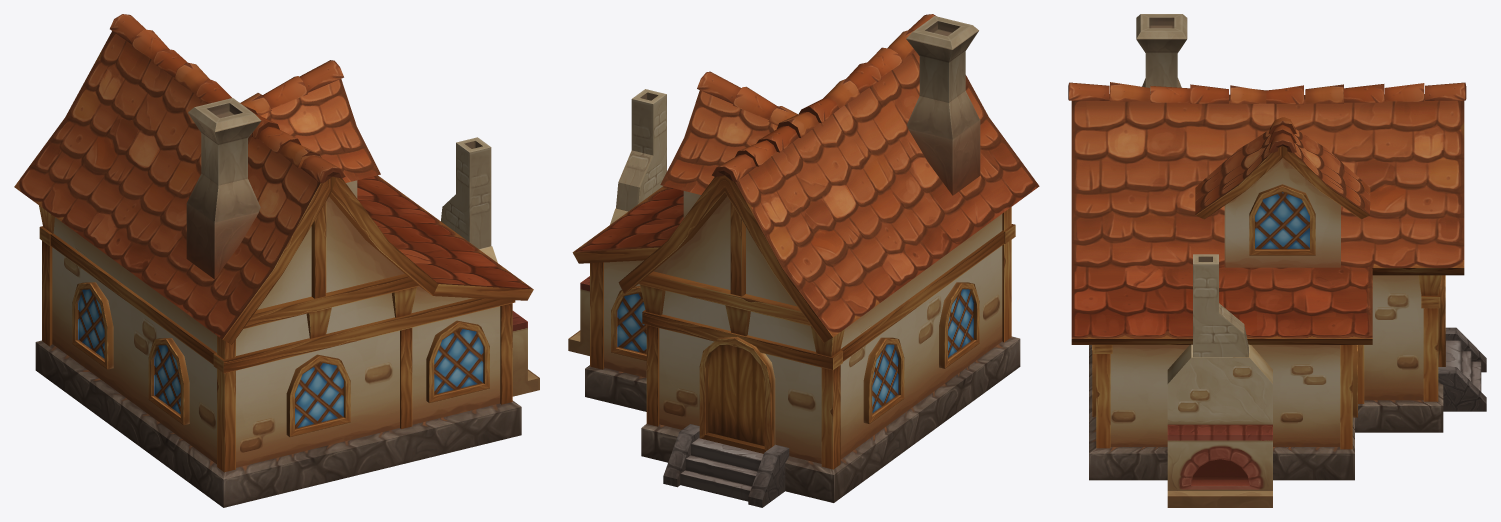
File: BakerHouse.gltf
3 renders of one model, left to right at view 1: azimuth 30°, elevation 25°; view 2: azimuth 150°, elevation 25°; view 3: azimuth 270°, elevation 25°, orthographic. The views are drawn at different scales.
Visible parts, largest first — view 1: Baker_house, Chimney; view 2: Baker_house, Chimney; view 3: Baker_house, Chimney.
Part boxes in pixels (x1=…): Baker_house: x1=14, y1=14, x2=533, y2=507; Chimney: x1=441, y1=137, x2=539, y2=396; Baker_house: x1=572, y1=14, x2=1039, y2=507; Chimney: x1=568, y1=89, x2=666, y2=355; Baker_house: x1=1068, y1=14, x2=1486, y2=480; Chimney: x1=1167, y1=254, x2=1272, y2=507.
Bounding box in the file's own units: 3.8 × 3.54 × 3.97.
1 material, 1 textured.
